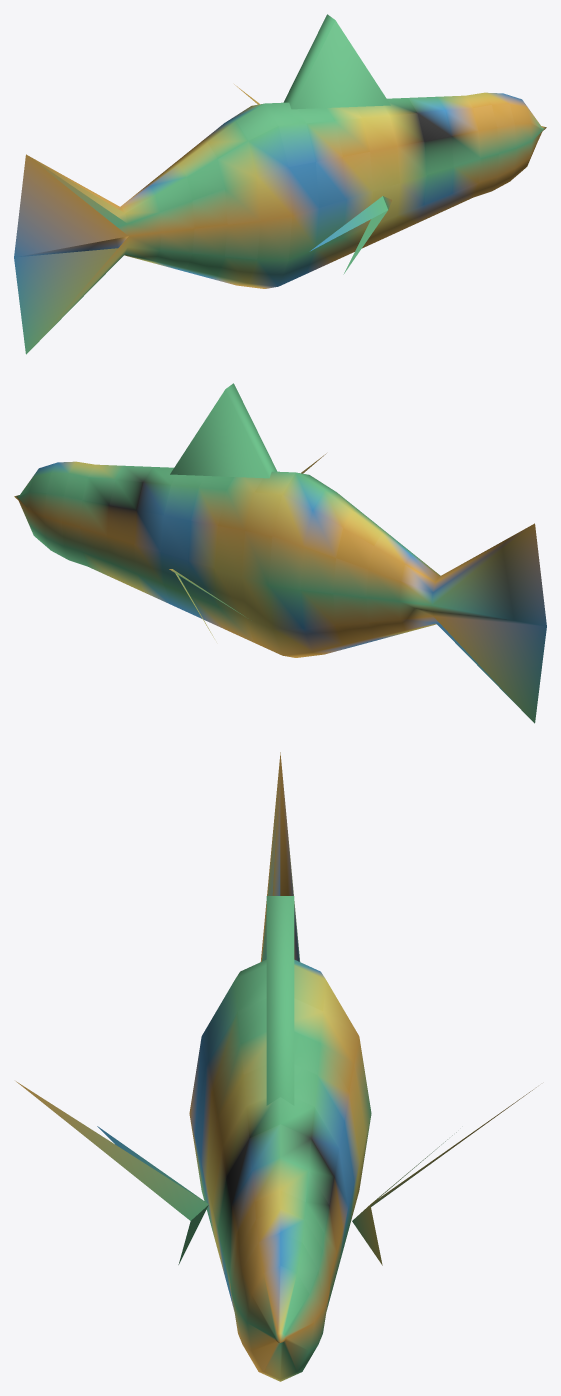
Rendered from Mandarin_Fish.glb.
3 renders of one model, top to bottom at view 1: azimuth 30°, elevation 25°; view 2: azimuth 150°, elevation 25°; view 3: azimuth 270°, elevation 25°, orthographic. The views are drawn at different scales.
Parts seen in each view (by area): view 1: MandarinFish; view 2: MandarinFish; view 3: MandarinFish.
Part boxes in pixels (x1=…): MandarinFish: x1=14, y1=14, x2=546, y2=354; MandarinFish: x1=14, y1=383, x2=546, y2=723; MandarinFish: x1=16, y1=752, x2=536, y2=1381.
Size of the model in its own units: 0.89 by 0.42 by 0.4626.
